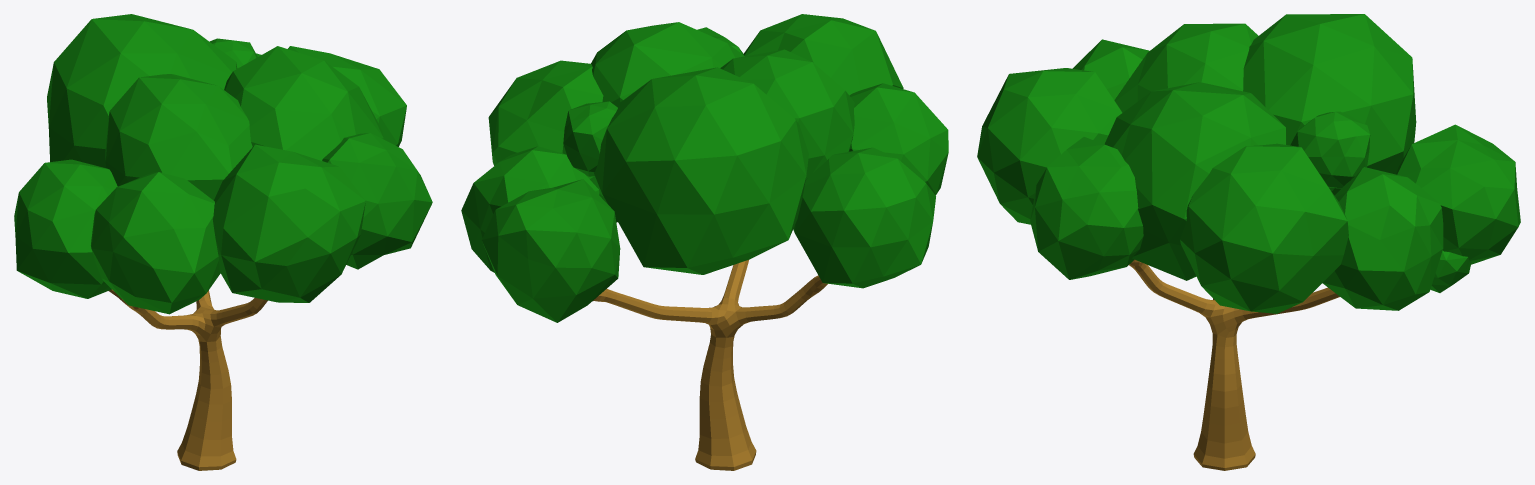
Rendered from regular tree.obj.
The picture shows the model from 3 angles, left to right: view 1: azimuth 30°, elevation 25°; view 2: azimuth 150°, elevation 25°; view 3: azimuth 270°, elevation 25°; orthographic projection. The views are drawn at different scales.
Parts seen in each view (by area): view 1: Plane_Plane.001; view 2: Plane_Plane.001; view 3: Plane_Plane.001.
Part boxes in pixels (<box>): Plane_Plane.001: <box>14,14,432,470</box>; Plane_Plane.001: <box>461,14,948,470</box>; Plane_Plane.001: <box>977,14,1520,470</box>.
Bounding box in the file's own units: 11.66 × 11.53 × 13.31.
